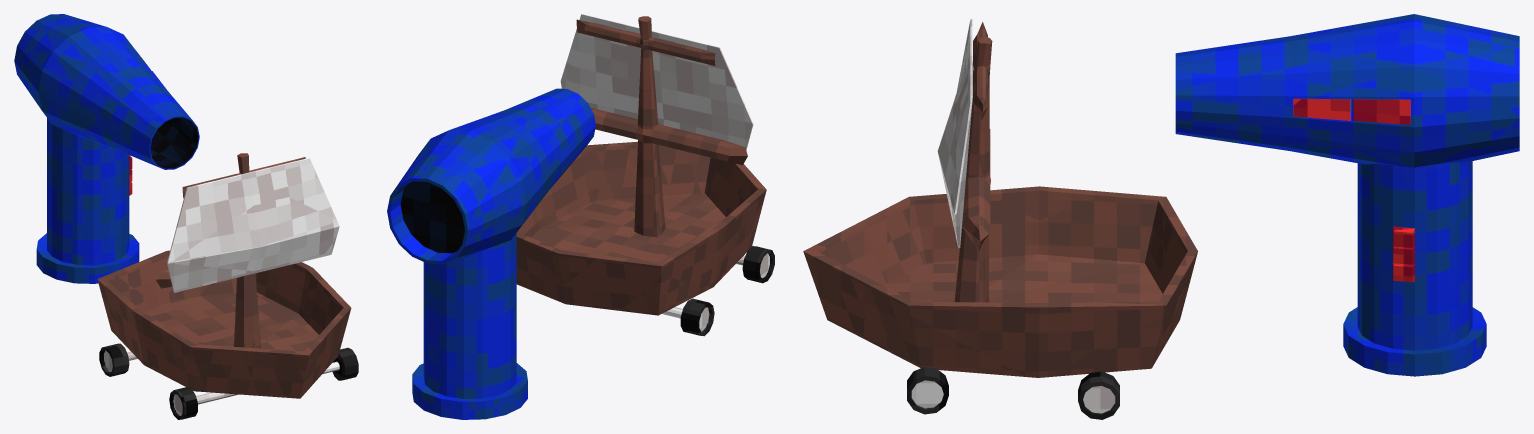
The model's file is shipblow.fbx.
The picture shows the model from 3 angles, left to right: view 1: azimuth 30°, elevation 25°; view 2: azimuth 150°, elevation 25°; view 3: azimuth 270°, elevation 25°; orthographic projection. The views are drawn at different scales.
Parts seen in each view (by area): view 1: boat, upperblow, lowerblow, wheels; view 2: boat, upperblow, lowerblow, wheels; view 3: boat, upperblow, lowerblow, wheels.
Boxes of the visible parts, <box> form: boat: <box>97,153,351,398</box>; upperblow: <box>14,14,199,169</box>; lowerblow: <box>36,118,139,283</box>; wheels: <box>99,343,358,419</box>; boat: <box>516,14,766,315</box>; upperblow: <box>387,88,595,264</box>; lowerblow: <box>412,233,527,419</box>; wheels: <box>662,246,774,336</box>; boat: <box>803,19,1197,377</box>; upperblow: <box>1175,14,1519,167</box>; lowerblow: <box>1343,161,1486,376</box>; wheels: <box>907,367,1119,419</box>.
Bounding box in the file's own units: 265 × 321 × 623.
Materials: 6 (6 with a texture image).
